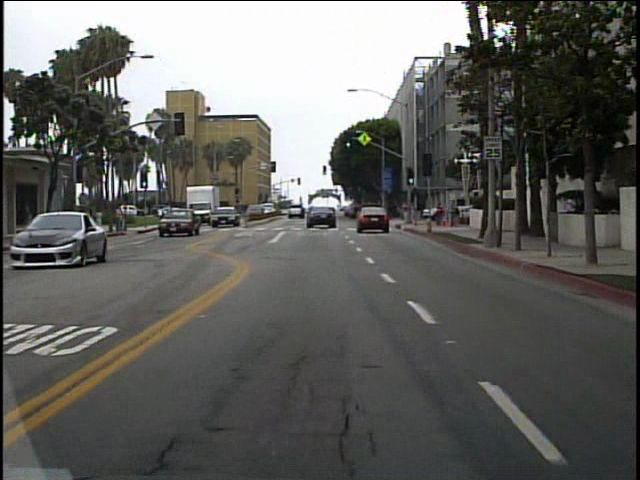person: (114, 200, 126, 235)
